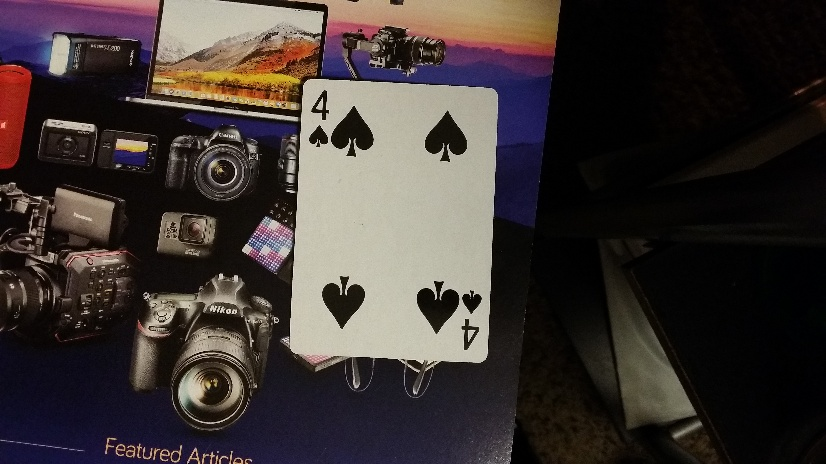S4: (459, 286, 483, 354), (308, 86, 330, 152)
